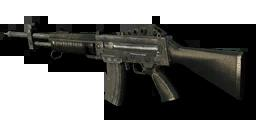larga: (4, 21, 247, 107)
